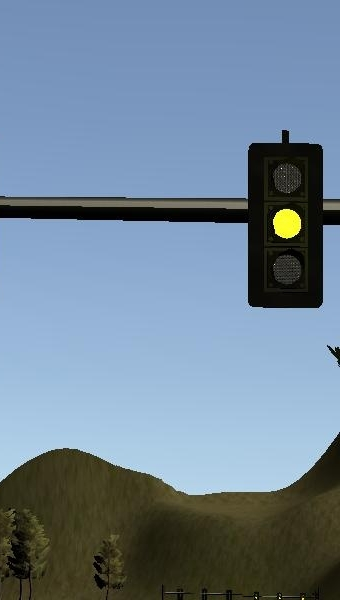Yellow: (247, 138, 326, 310)
